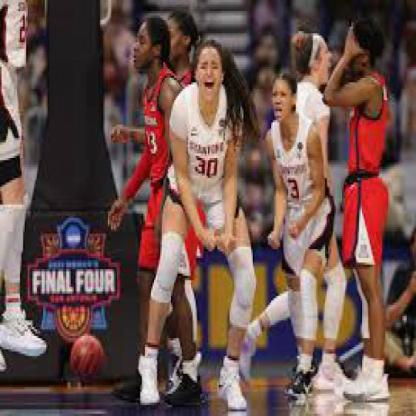basketball: (69, 336, 103, 380)
